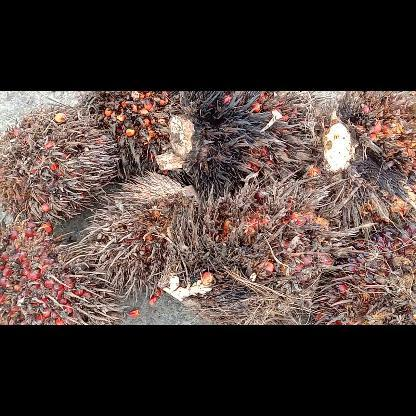Terlalu masak: (158, 170, 356, 324), (156, 90, 310, 196), (80, 171, 198, 297), (0, 212, 127, 324), (0, 104, 117, 224), (312, 91, 416, 223), (309, 222, 415, 324), (77, 91, 193, 183)
